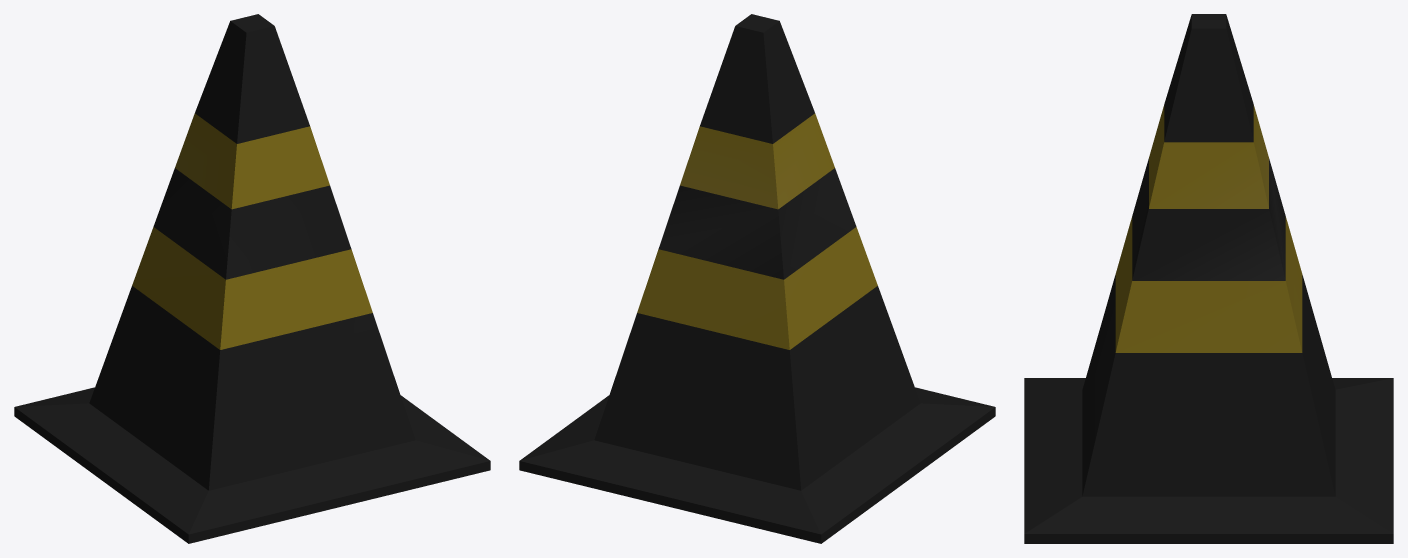
The model's file is InvertedCone.fbx.
3 views of the same model, side by side, from view 1: azimuth 30°, elevation 25°; view 2: azimuth 150°, elevation 25°; view 3: azimuth 270°, elevation 25° (orthographic). The views are drawn at different scales.
Visible parts, largest first — view 1: Cone; view 2: Cone; view 3: Cone.
Boxes of the visible parts, left/top/right/bottom form: Cone: left=14, top=14, right=490, bottom=543; Cone: left=519, top=14, right=995, bottom=543; Cone: left=1024, top=14, right=1393, bottom=543.
Size of the model in its own units: 57.06 by 75.85 by 57.06.
